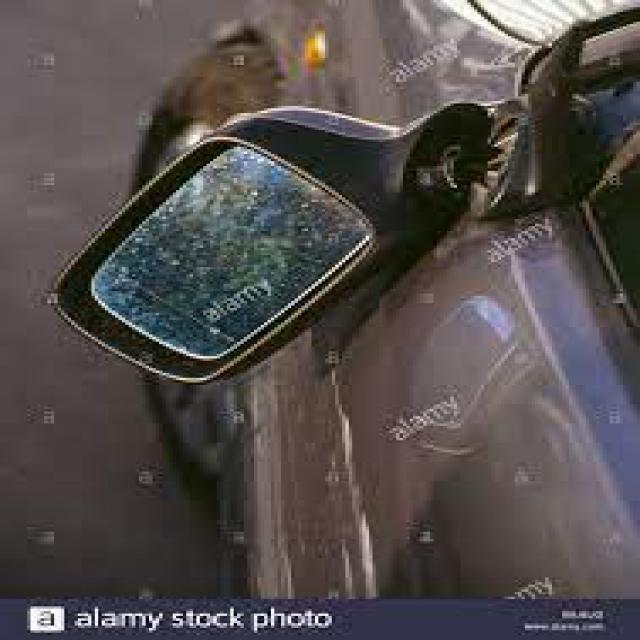Sidemirror-Damage: (68, 101, 522, 409)
